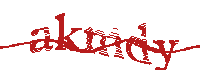a: (28, 24, 54, 53)
d: (125, 22, 153, 66)
k: (54, 11, 80, 51)
m: (84, 27, 125, 59)
y: (152, 37, 180, 70)
